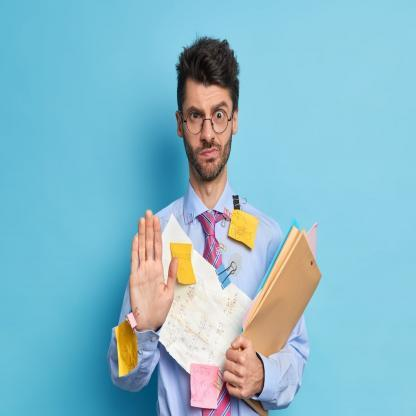stop: (128, 206, 180, 332)
